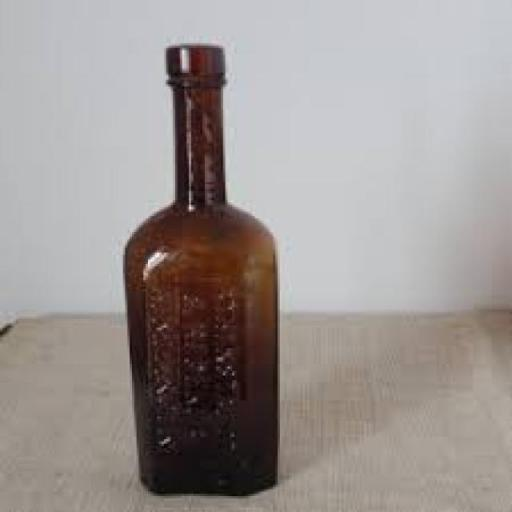glass: (100, 38, 305, 512)
